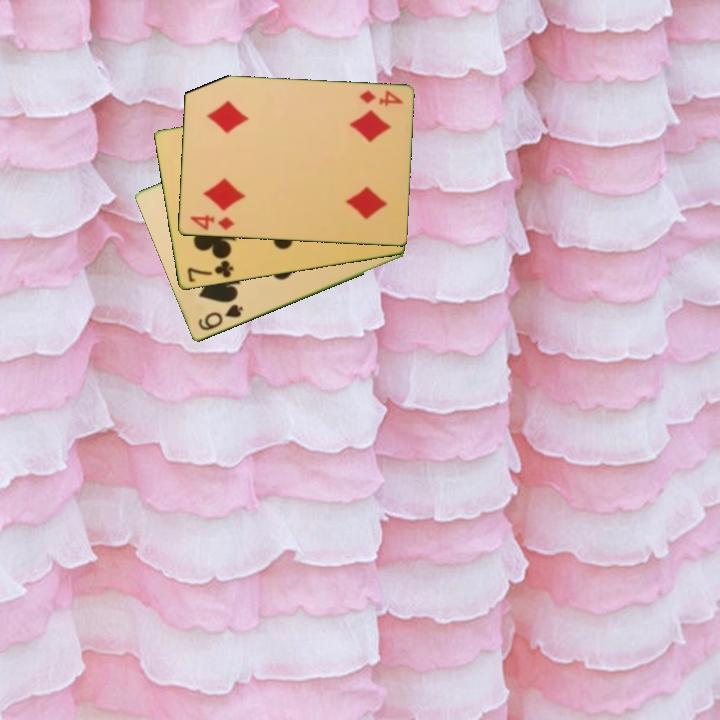4d: (186, 211, 237, 233), (355, 87, 406, 109)
6s: (194, 301, 246, 334)
7c: (183, 257, 236, 285)
